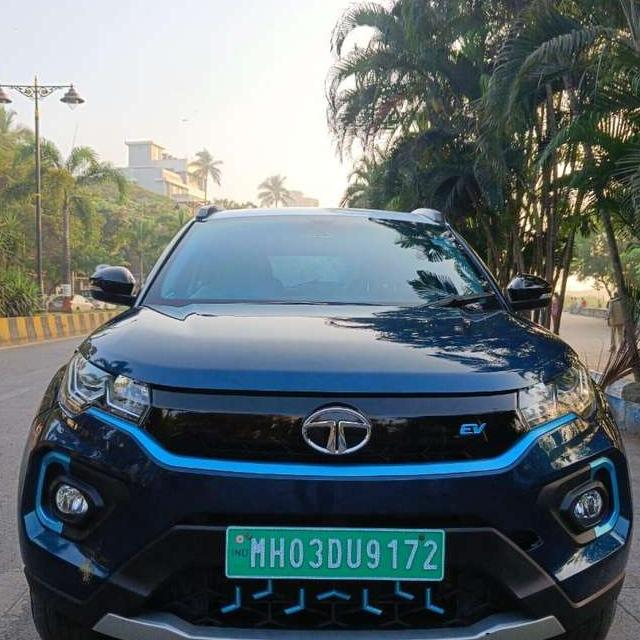Indian_Number_Plate: (228, 526, 443, 579)
